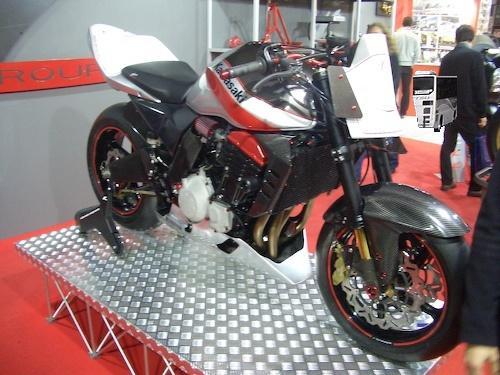tampered: (413, 71, 457, 132)
